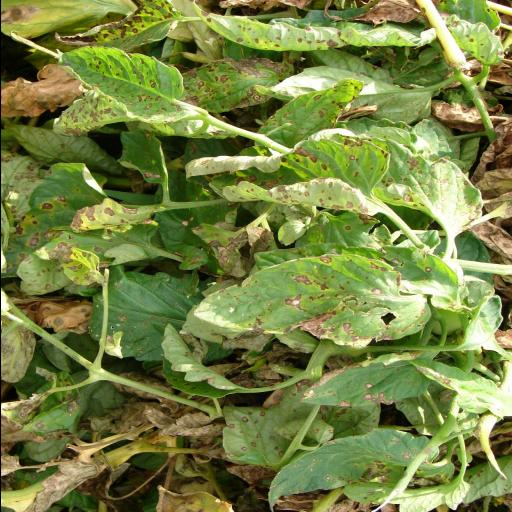disease_tomato: (190, 251, 434, 352), (180, 139, 392, 218), (264, 426, 456, 512), (0, 161, 140, 276), (189, 0, 439, 52), (372, 136, 492, 238), (82, 268, 204, 362), (52, 44, 188, 122), (291, 348, 440, 418), (238, 78, 364, 156), (156, 320, 244, 400), (50, 0, 180, 52), (182, 56, 296, 114), (115, 128, 173, 186), (50, 246, 110, 288)
